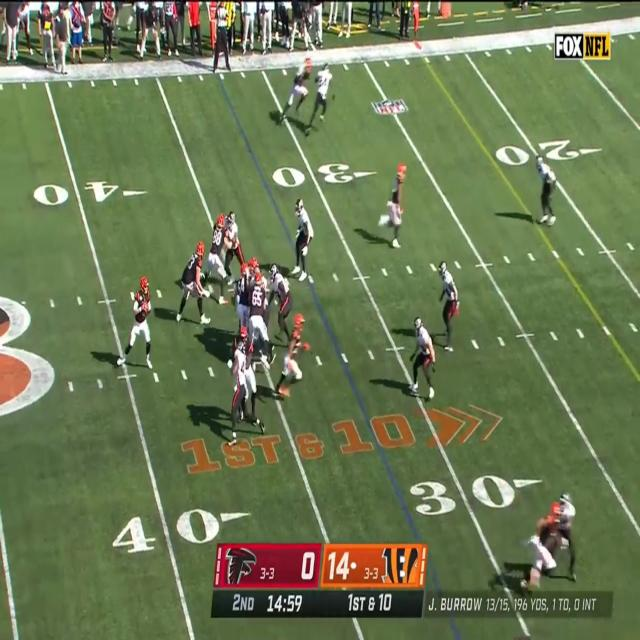Ball: (142, 299, 150, 319)
